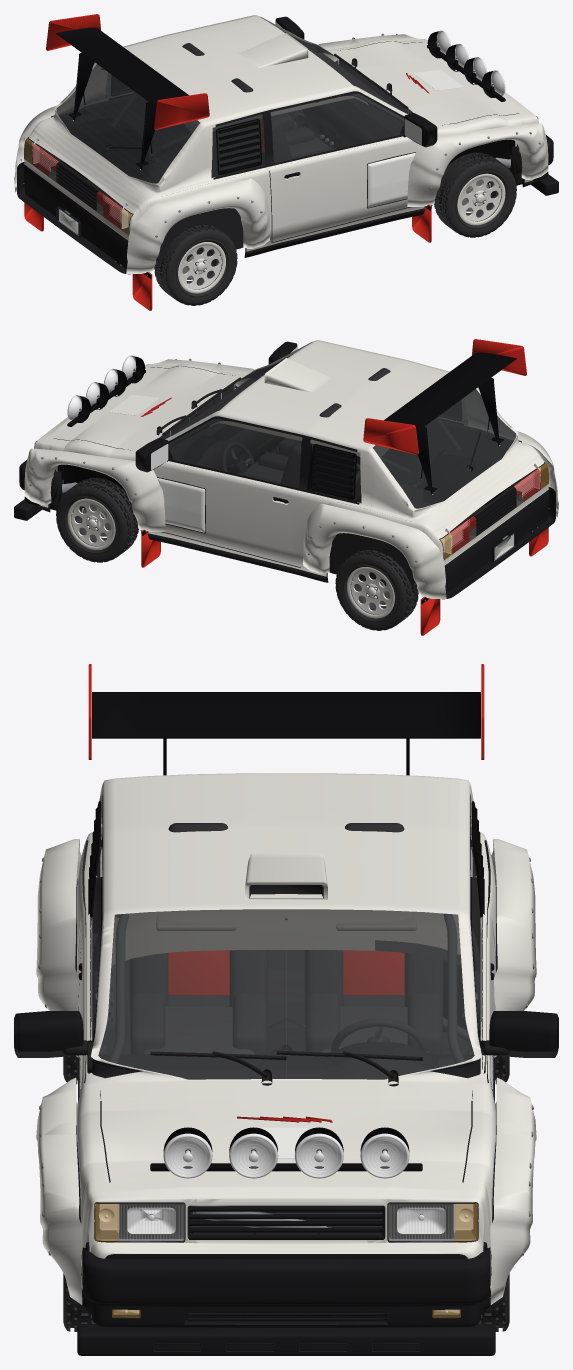
The model's file is hatch-groupb_studio.glb.
The picture shows the model from 3 angles, top to bottom: view 1: azimuth 30°, elevation 25°; view 2: azimuth 150°, elevation 25°; view 3: azimuth 270°, elevation 25°; orthographic projection. The views are drawn at different scales.
Parts seen in each view (by area): view 1: body, hood, wheel_fr, wheel_rr, bay, lamp_tail, lamp_amber; view 2: body, hood, wheel_fl, wheel_rl, bay, lamp_tail, lamp_amber; view 3: body, hood, lamp_head, bay, lamp_amber, wheel_rr.
Part boxes in pixels (x1,y1,x2,y2): body: [14, 14, 558, 310]; hood: [336, 41, 526, 125]; wheel_fr: [434, 152, 516, 237]; wheel_rr: [154, 225, 237, 305]; bay: [338, 59, 516, 182]; lamp_tail: [32, 144, 122, 228]; lamp_amber: [24, 138, 132, 234]; body: [14, 339, 558, 635]; hood: [46, 366, 236, 450]; wheel_fl: [56, 477, 138, 562]; wheel_rl: [335, 550, 418, 630]; bay: [56, 384, 234, 507]; lamp_tail: [450, 469, 540, 553]; lamp_amber: [440, 463, 548, 559]; body: [14, 664, 558, 1355]; hood: [100, 1085, 472, 1191]; lamp_head: [118, 1137, 454, 1242]; bay: [190, 1116, 382, 1227]; lamp_amber: [95, 1203, 477, 1317]; wheel_rr: [63, 933, 115, 1084].
Bounding box in the file's own units: 3.77 × 1.73 × 2.24.
